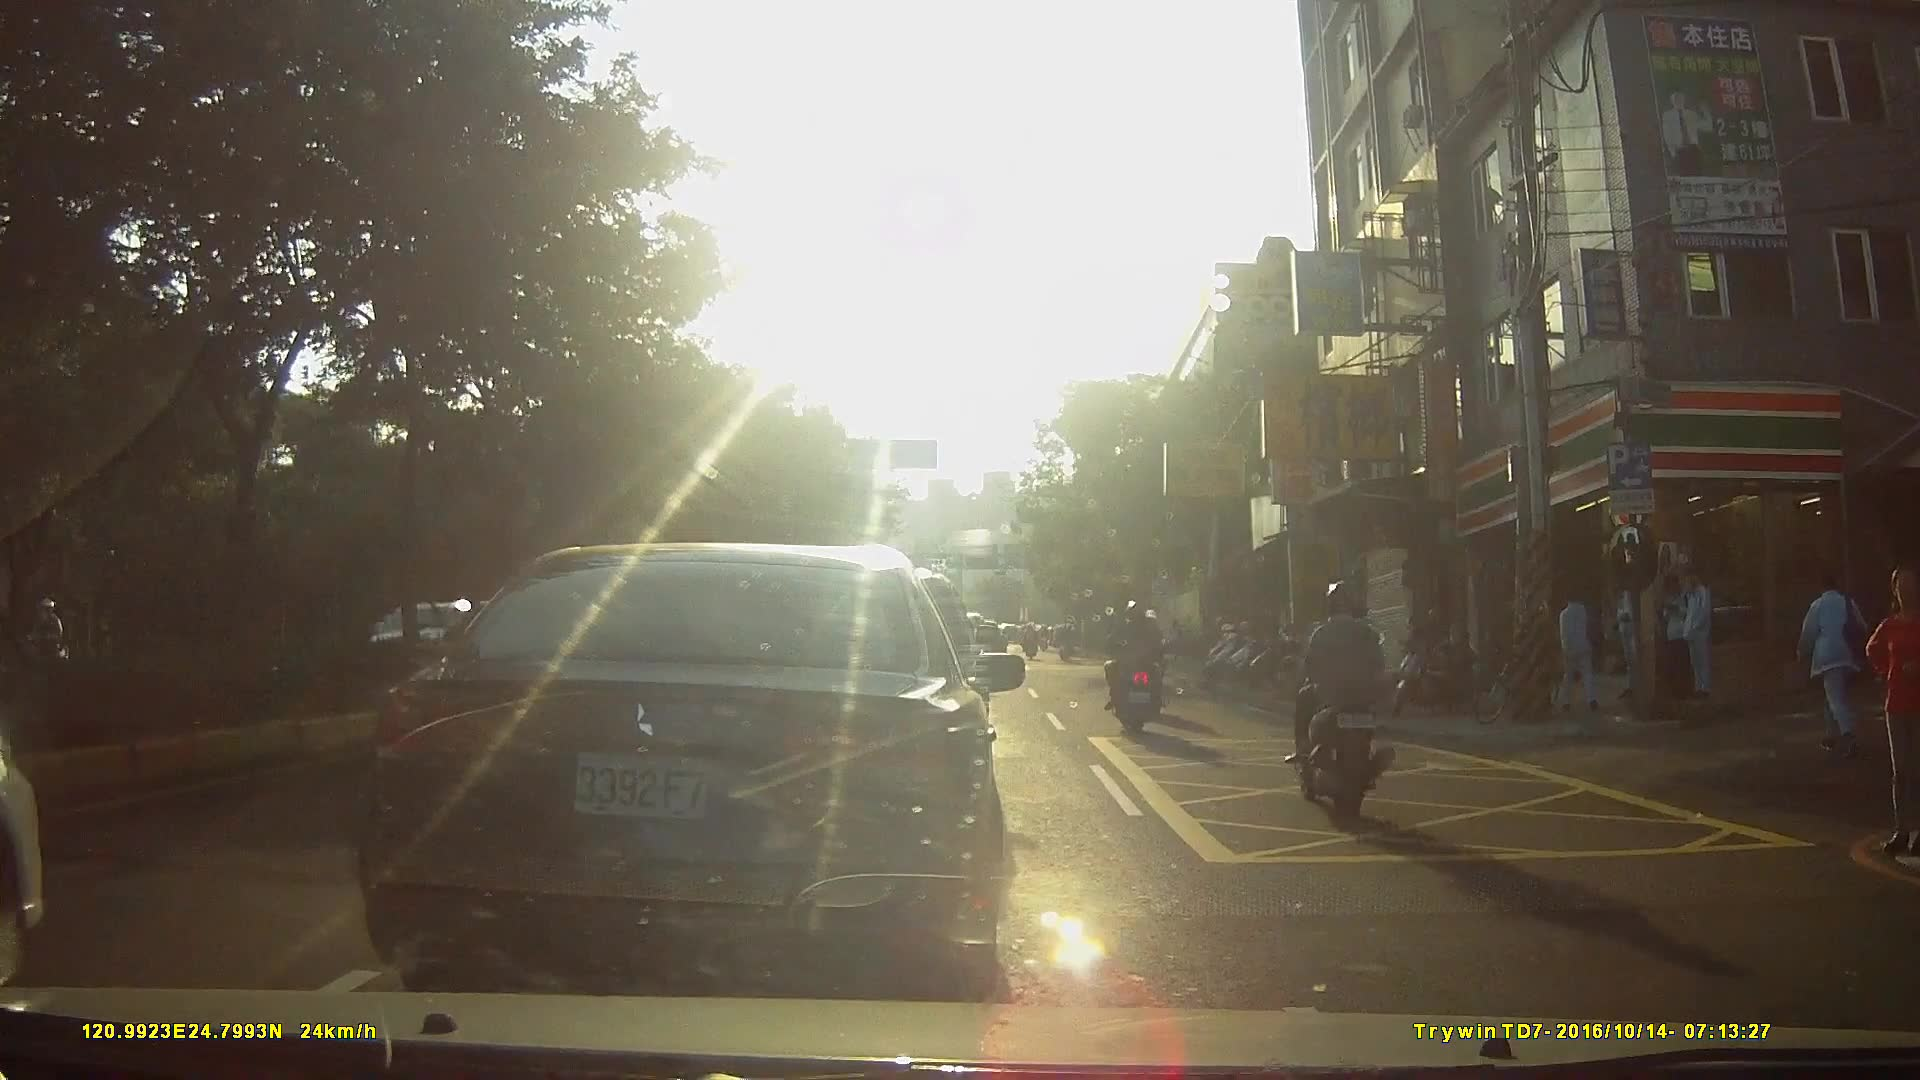pedestrian: (1794, 563, 1878, 760), (1863, 567, 1920, 854), (1552, 579, 1602, 715), (1610, 574, 1655, 708), (1669, 569, 1715, 699), (1659, 568, 1697, 710)
rider: (1286, 583, 1395, 817), (1106, 598, 1169, 734), (1057, 621, 1079, 665), (1021, 622, 1042, 665)
vehicle: (357, 542, 1037, 983)
